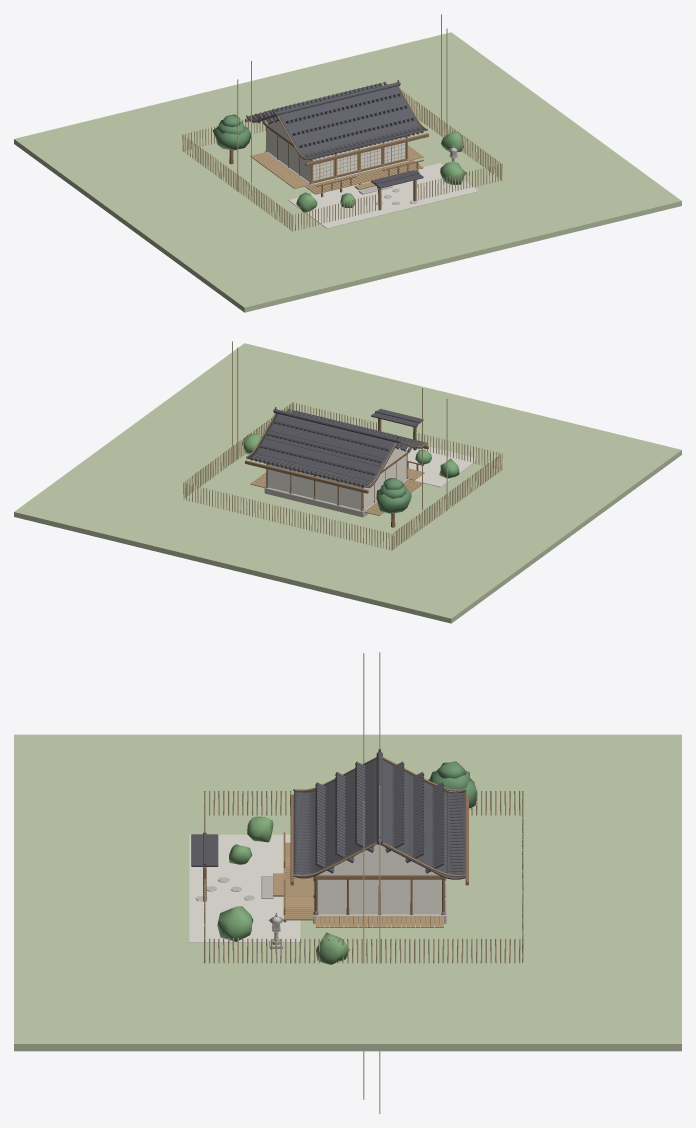
The model's file is jp_house.glb.
The picture shows the model from 3 angles, top to bottom: view 1: azimuth 30°, elevation 25°; view 2: azimuth 150°, elevation 25°; view 3: azimuth 270°, elevation 25°; orthographic projection. The views are drawn at different scales.
Parts seen in each view (by area): view 1: Ground, BambooFence, RoofSouth, Gravel, KawaraTiles, EngawaPlanks, WallLeft, Pine0, EaveS, RidgeTiles; view 2: Ground, BambooFence, RoofNorth, KawaraTiles, WallBack, Gravel, Foundation, WallLeft, EngawaPlanks, RidgeTiles, Pine0, EaveN; view 3: Ground, KawaraTiles, Gravel, BambooFence, RoofSouth, WallRight, RoofNorth, EngawaPlanks, GableR, Bush_1, GateRoof, Bush_3.
Boxes of the visible parts, <box> form: Ground: <box>14,32,681,312</box>; BambooFence: <box>182,14,502,231</box>; RoofSouth: <box>277,86,427,159</box>; Gravel: <box>288,163,478,228</box>; KawaraTiles: <box>250,81,423,160</box>; EngawaPlanks: <box>250,145,423,194</box>; WallLeft: <box>267,128,310,181</box>; Pine0: <box>212,127,250,150</box>; EaveS: <box>305,133,428,166</box>; RidgeTiles: <box>275,82,400,116</box>; Ground: <box>14,343,681,623</box>; BambooFence: <box>183,341,502,550</box>; RoofNorth: <box>246,413,397,487</box>; KawaraTiles: <box>250,408,421,487</box>; WallBack: <box>268,464,361,509</box>; Gravel: <box>406,446,478,487</box>; Foundation: <box>264,478,409,517</box>; WallLeft: <box>363,455,406,508</box>; EngawaPlanks: <box>250,468,424,515</box>; RidgeTiles: <box>273,409,398,443</box>; Pine0: <box>376,488,411,513</box>; EaveN: <box>245,460,368,493</box>; Ground: <box>14,734,681,1051</box>; KawaraTiles: <box>293,761,465,876</box>; Gravel: <box>189,834,300,942</box>; BambooFence: <box>204,652,523,1113</box>; RoofSouth: <box>294,757,376,878</box>; WallRight: <box>317,879,441,913</box>; RoofNorth: <box>381,759,465,879</box>; EngawaPlanks: <box>283,842,443,927</box>; GableR: <box>318,844,437,874</box>; Bush_1: <box>217,906,253,941</box>; GateRoof: <box>191,834,218,866</box>; Bush_3: <box>316,932,349,964</box>.
Bounding box in the file's own units: 46 × 22.7 × 42.
